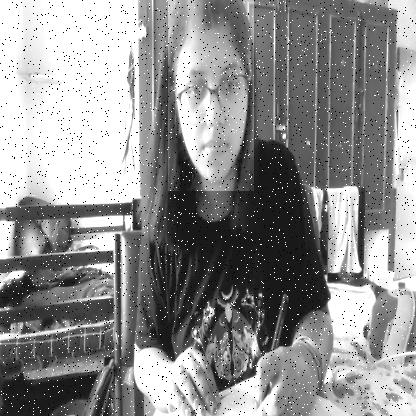Normal: (168, 0, 254, 191)
